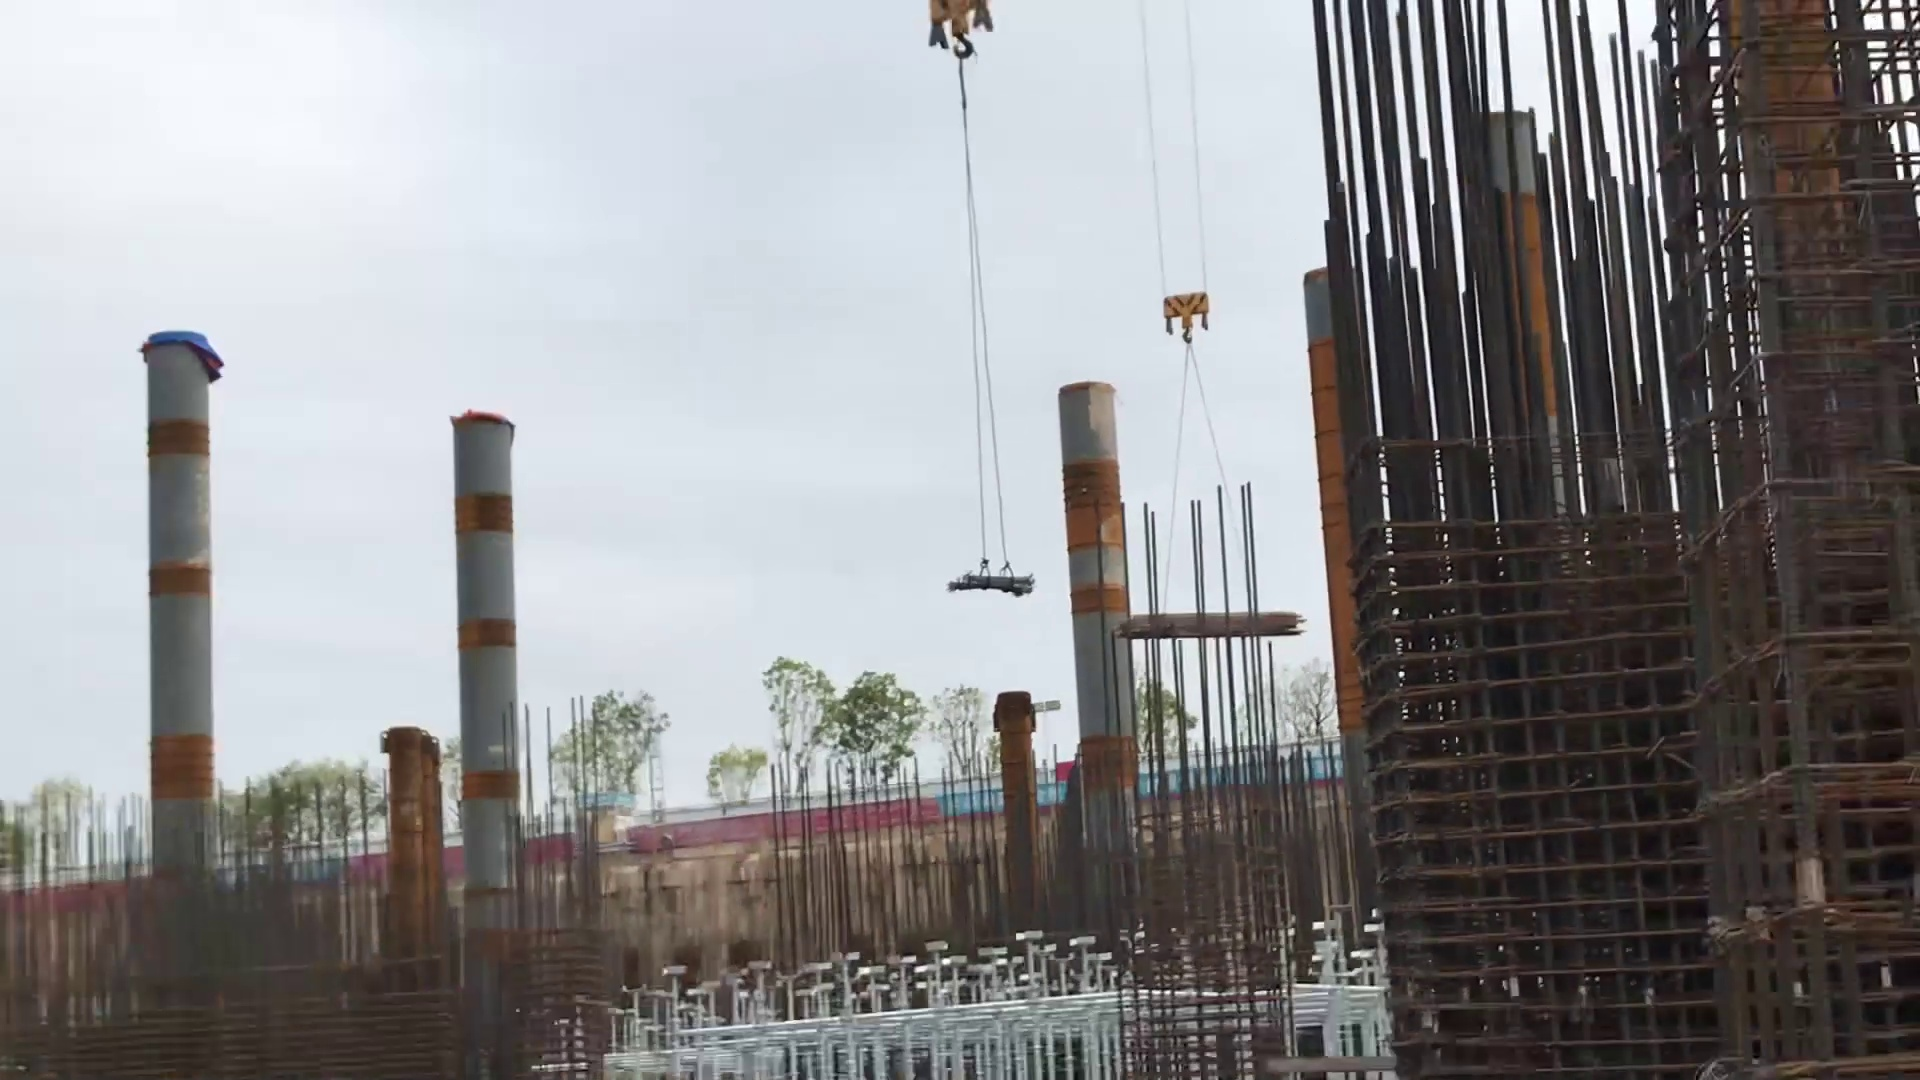hook: (920, 1, 1000, 61), (1162, 282, 1212, 348)
rebar: (942, 567, 1047, 605)
wood: (1112, 603, 1311, 650)
